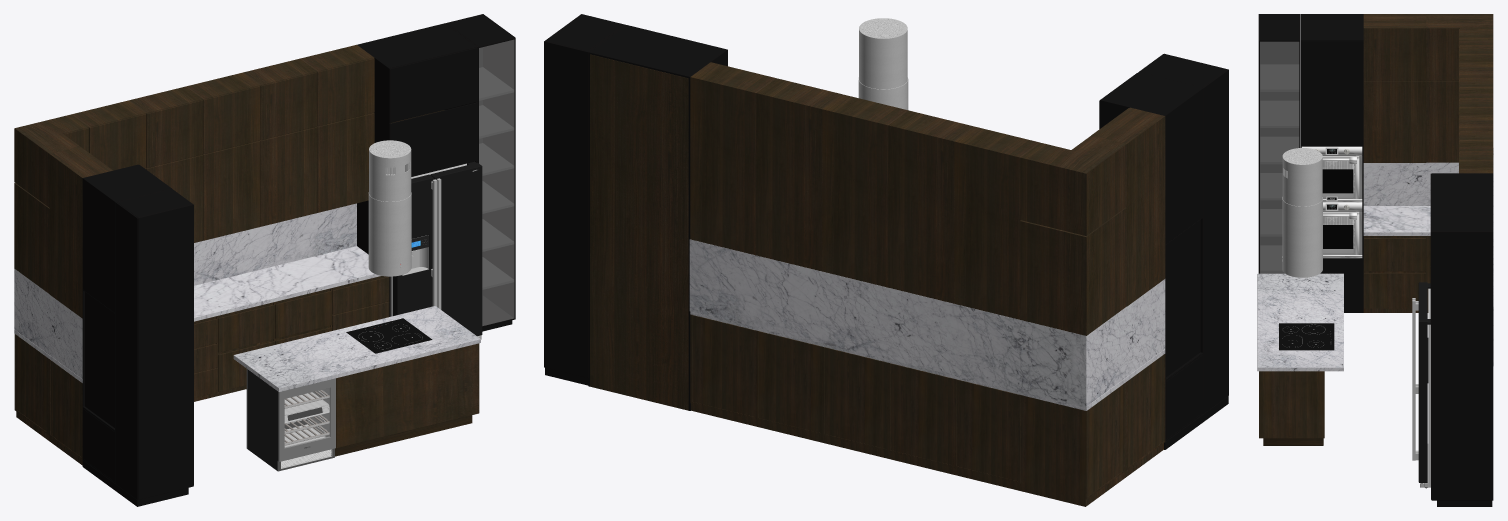
File: cocinae1.glb
The picture shows the model from 3 angles, left to right: view 1: azimuth 30°, elevation 25°; view 2: azimuth 150°, elevation 25°; view 3: azimuth 270°, elevation 25°; orthographic projection. The views are drawn at different scales.
Visible parts, largest first — view 1: Rectangle13581637, Box193364.002, Rectangle13581624, Kitchen modern, Rectangle13581628, Modern kitchen, Box193364.001, Rectangle13581741, Line011, q001, Cylinder159, Kitchen_Big-Appliances_Hob-Induction_01 (+1 smaller); view 2: Rectangle13581637, Rectangle13581624, Rectangle13581628, Line011, Box193364.001, Rectangle13581741, Box193364.002, Cylinder159; view 3: Rectangle13581637, Box193364.001, Kitchen modern, Rectangle13581741, Box193364.002, Rectangle13581624, Cylinder159, Line011, Modern kitchen, Rectangle13581628, Kitchen_Oven-Kaiser, KitchenOven-Kaiser_01 (+1 smaller).
Part boxes in pixels (left/top/right/bottom): Rectangle13581637: left=14, top=44, right=374, bottom=318; Box193364.002: left=115, top=188, right=193, bottom=499; Rectangle13581624: left=14, top=246, right=389, bottom=465; Kitchen modern: left=233, top=306, right=480, bottom=456; Rectangle13581628: left=357, top=23, right=477, bottom=316; Modern kitchen: left=390, top=161, right=482, bottom=339; Box193364.001: left=445, top=14, right=515, bottom=331; Rectangle13581741: left=82, top=164, right=171, bottom=483; Line011: left=14, top=203, right=356, bottom=378; q001: left=246, top=369, right=335, bottom=471; Cylinder159: left=368, top=140, right=411, bottom=276; Kitchen_Big-Appliances_Hob-Induction_01: left=346, top=318, right=432, bottom=353; Rectangle13581637: left=690, top=62, right=1165, bottom=335; Rectangle13581624: left=690, top=311, right=1165, bottom=506; Rectangle13581628: left=588, top=25, right=727, bottom=410; Line011: left=689, top=239, right=1165, bottom=407; Box193364.001: left=544, top=14, right=625, bottom=385; Rectangle13581741: left=1099, top=72, right=1203, bottom=441; Box193364.002: left=1138, top=53, right=1228, bottom=413; Cylinder159: left=858, top=18, right=908, bottom=109; Rectangle13581637: left=1363, top=14, right=1493, bottom=173; Box193364.001: left=1431, top=214, right=1493, bottom=506; Kitchen modern: left=1257, top=273, right=1343, bottom=445; Rectangle13581741: left=1301, top=14, right=1363, bottom=308; Box193364.002: left=1258, top=14, right=1300, bottom=273; Rectangle13581624: left=1363, top=206, right=1430, bottom=312; Cylinder159: left=1282, top=148, right=1322, bottom=277; Line011: left=1363, top=148, right=1493, bottom=365; Modern kitchen: left=1412, top=282, right=1430, bottom=488; Rectangle13581628: left=1430, top=173, right=1493, bottom=321; Kitchen_Oven-Kaiser: left=1301, top=146, right=1362, bottom=202; KitchenOven-Kaiser_01: left=1323, top=202, right=1362, bottom=258.
Size of the model in its own units: 4.93 by 2.9 by 2.26.
42 materials, 6 textured.
